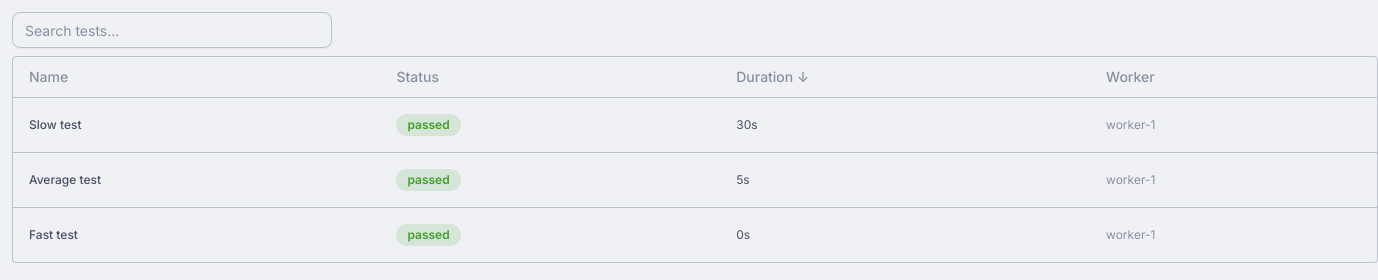
Test: TimelineDetailTable › filters rows by the debounced search and says when nothing matches
This screenshot has width=1378, height=280.
Type "slow" into the field with placeholder "Search tests...".
click(172, 30); type("slow")  # box [12,12,332,48]
Wait 300 ms
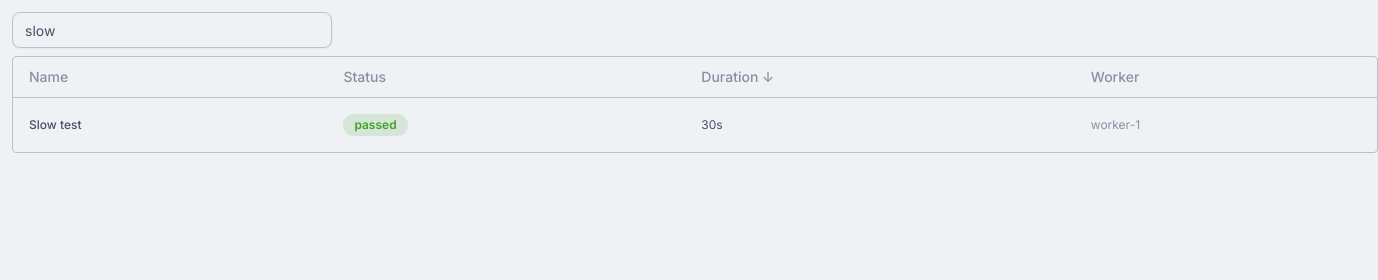
Replace the text in the field with placeholder "Search tests..." with "nonexistent-xyz" at (172, 30), box [12,12,332,48]
Wait 300 ms
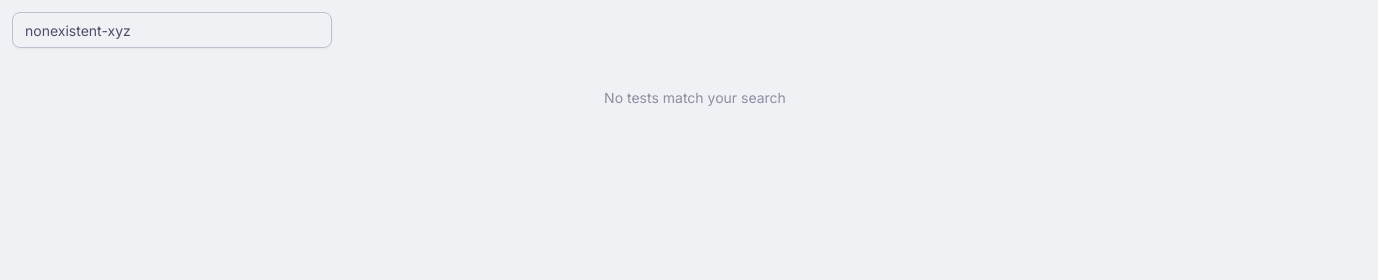
Expected: the text "No tests match your search" is shown, [604,89,786,106]
